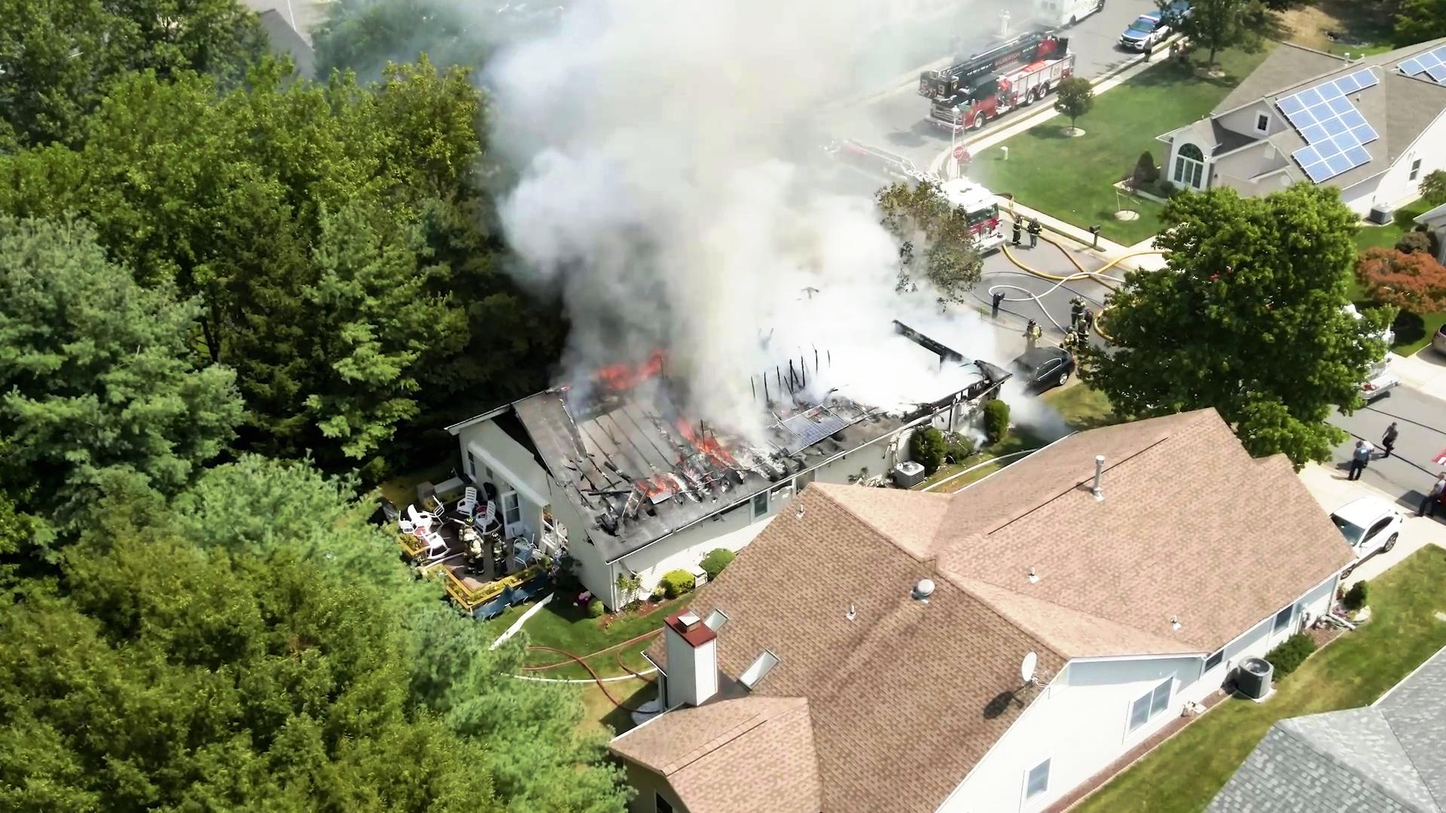smoke: (524, 0, 802, 251), (876, 363, 880, 364)
